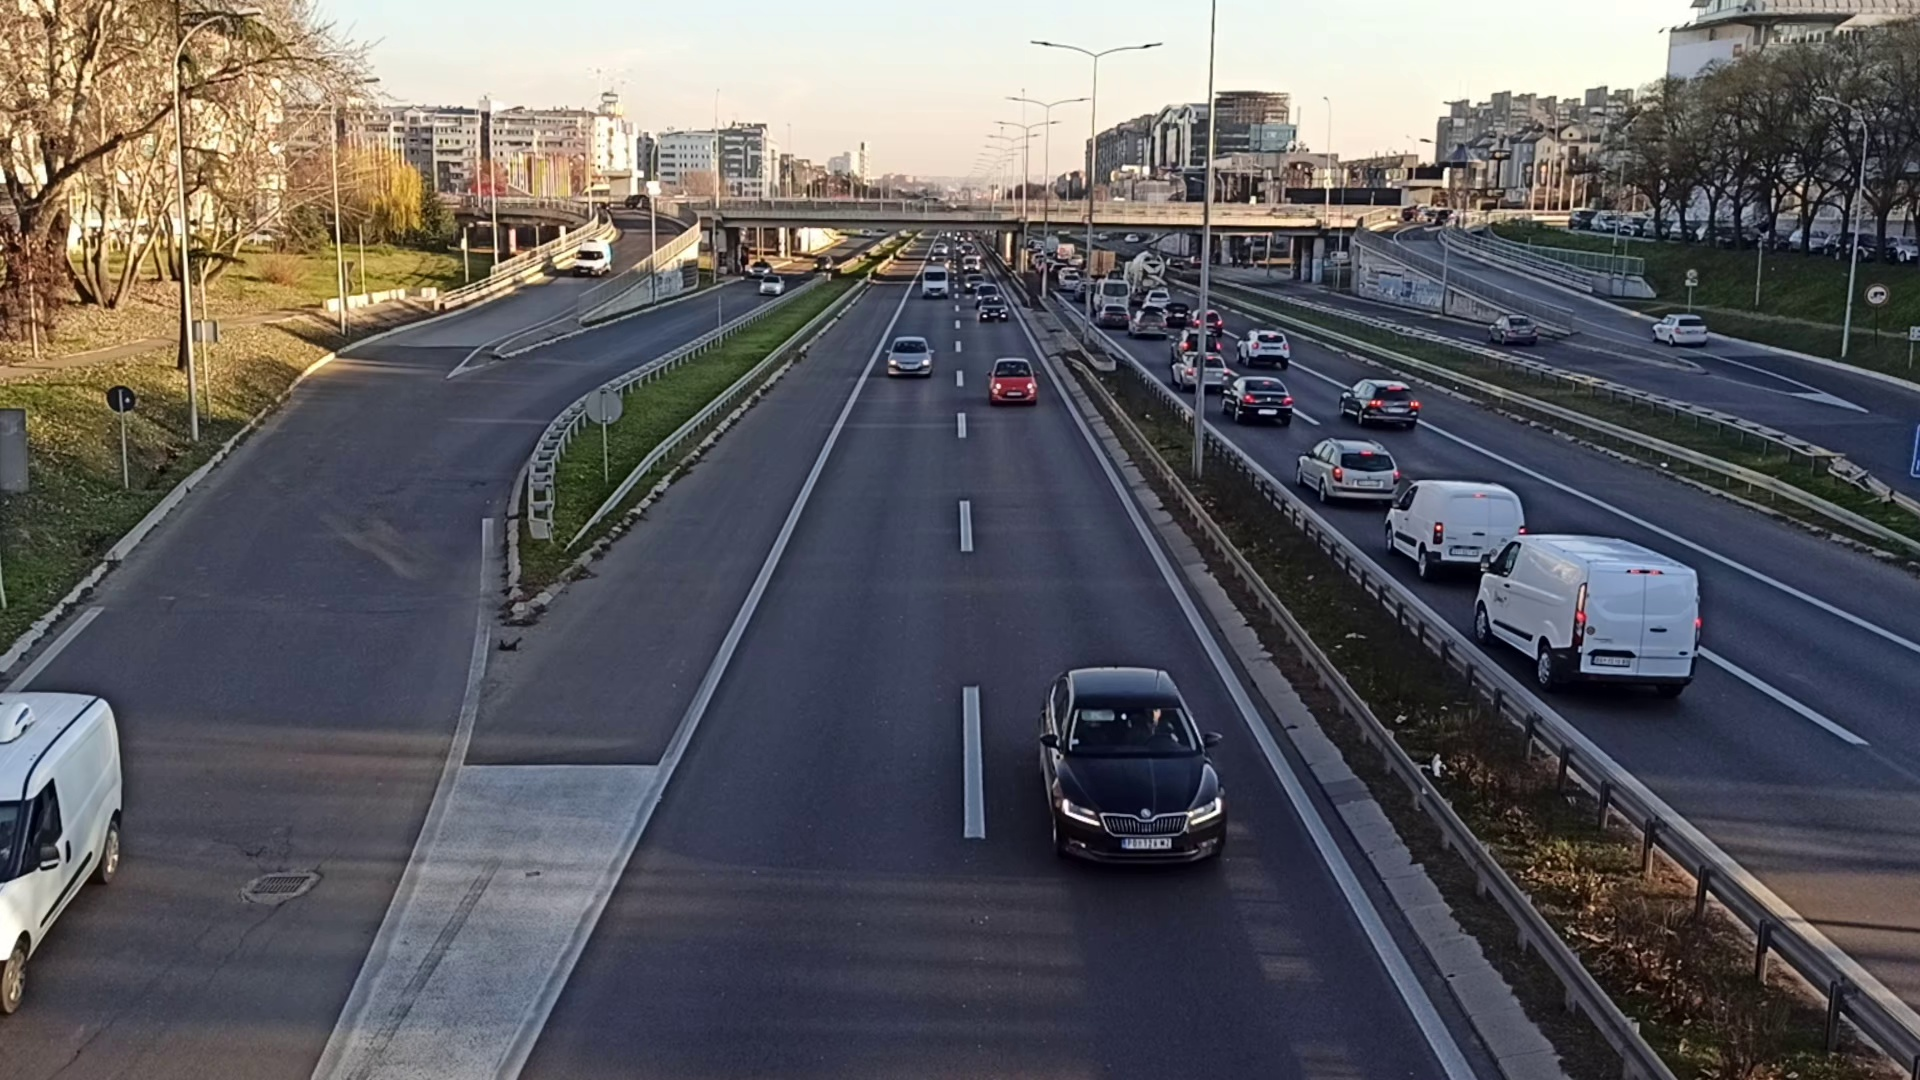car: (1038, 663, 1226, 874), (1296, 438, 1398, 504), (1341, 378, 1418, 429), (1222, 375, 1296, 426), (989, 359, 1039, 404), (1650, 313, 1709, 345), (887, 335, 931, 377), (1237, 331, 1288, 365), (1486, 311, 1536, 345), (977, 295, 1007, 320), (761, 274, 782, 293)
van: (1476, 529, 1702, 705), (1385, 475, 1526, 579), (571, 240, 613, 280), (922, 264, 948, 297)
